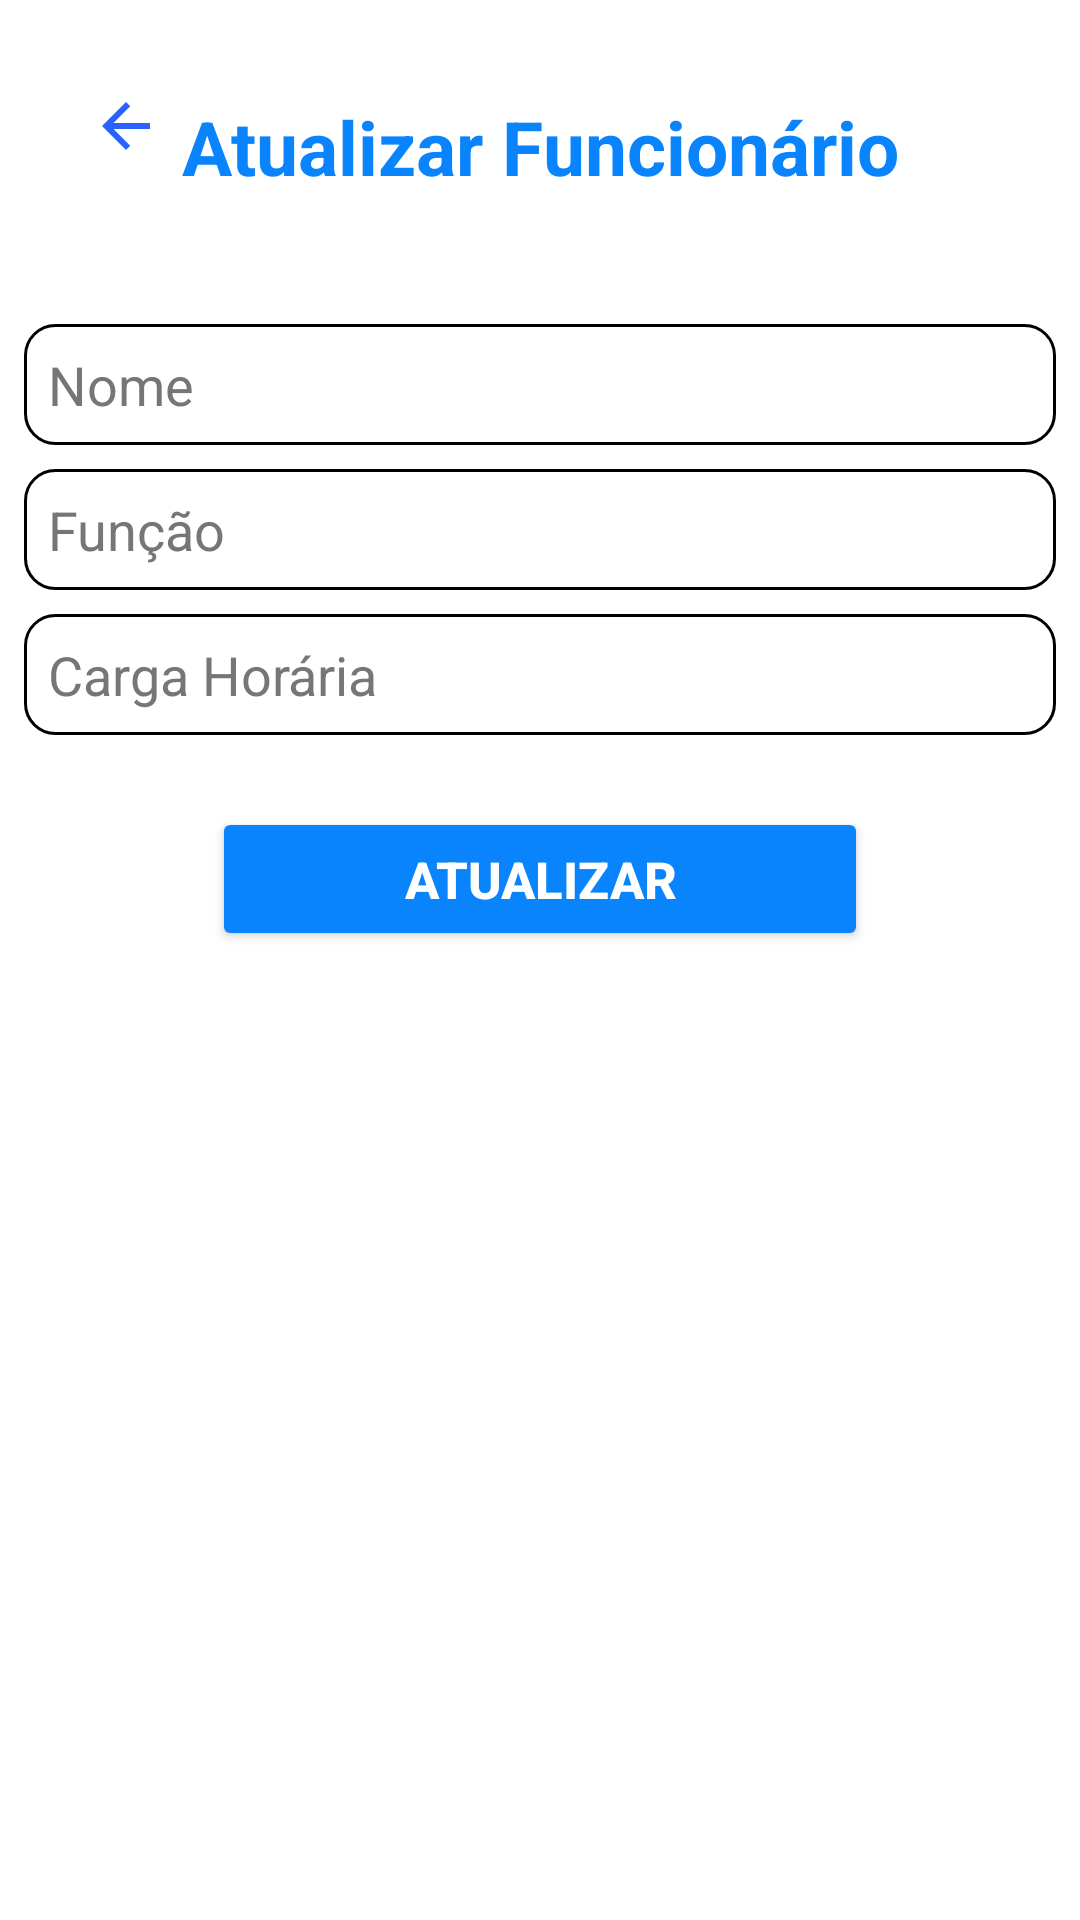

Icons on this 1080 × 1920 Android screen, each with its box as BBox(x1, y1, x2, y2):
back: BBox(102, 102, 150, 150)
